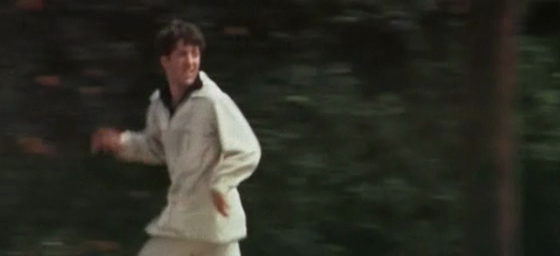face: (175, 44, 200, 83)
ms: (1, 1, 560, 256)
person: (89, 19, 263, 256)
